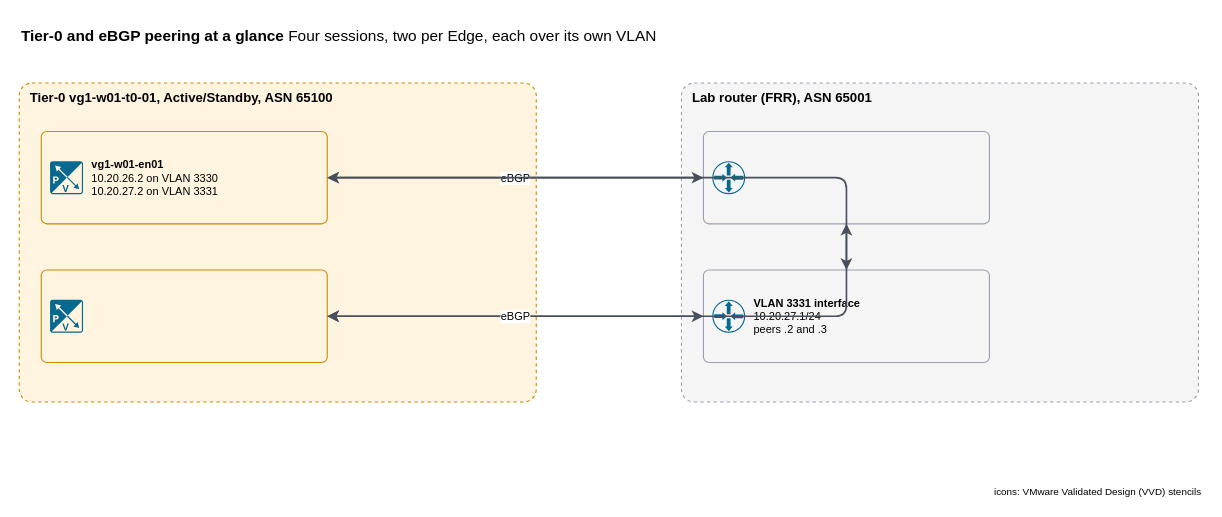
Image size: 1222x517. Some labels were removed from this diagram. Each missing label, with the box of its shape:
vg1-w01-en02 10.20.26.3 on VLAN 3330 10.20.27.3 on VLAN 3331: (40, 269, 327, 362)
VLAN 3330 interface 10.20.26.1/24 peers .2 and .3: (702, 130, 989, 224)
